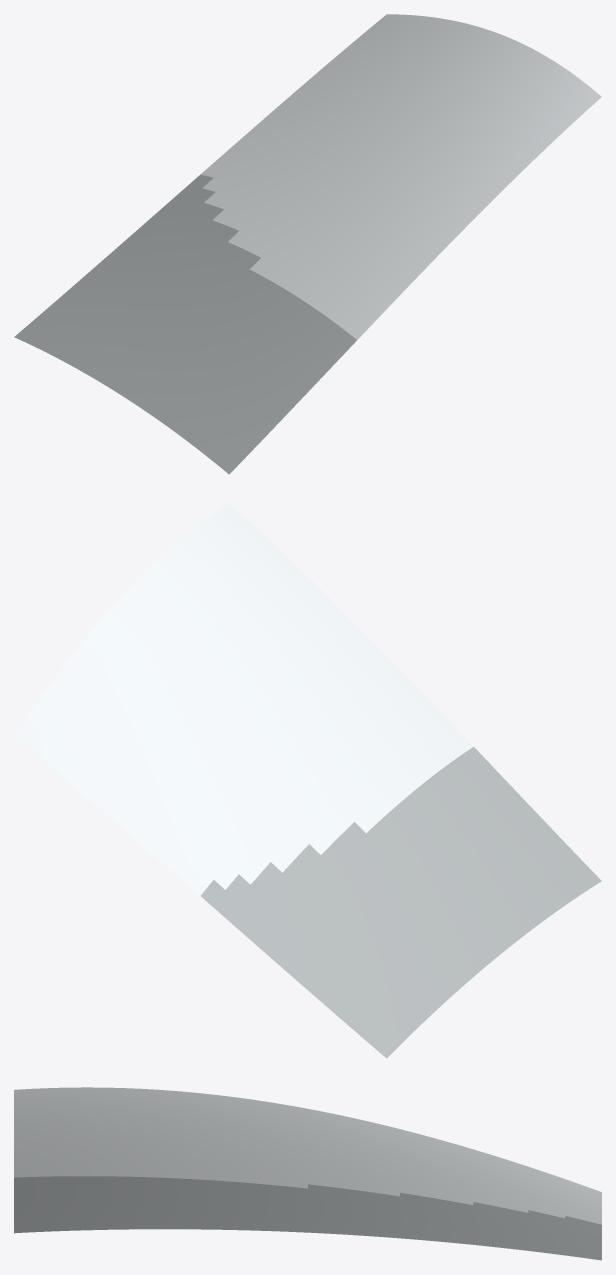
File: alpine-6-6.glb
The picture shows the model from 3 angles, top to bottom: view 1: azimuth 30°, elevation 25°; view 2: azimuth 150°, elevation 25°; view 3: azimuth 270°, elevation 25°; orthographic projection. The views are drawn at different scales.
Parts seen in each view (by area): view 1: alpine-6-6; view 2: alpine-6-6; view 3: alpine-6-6.
Part boxes in pixels (left/top/right/bottom): alpine-6-6: left=14, top=14, right=601, bottom=474; alpine-6-6: left=14, top=503, right=601, bottom=1058; alpine-6-6: left=14, top=1087, right=601, bottom=1260.
Size of the model in its own units: 256 by 203 by 256.
2 materials, 2 textured.
